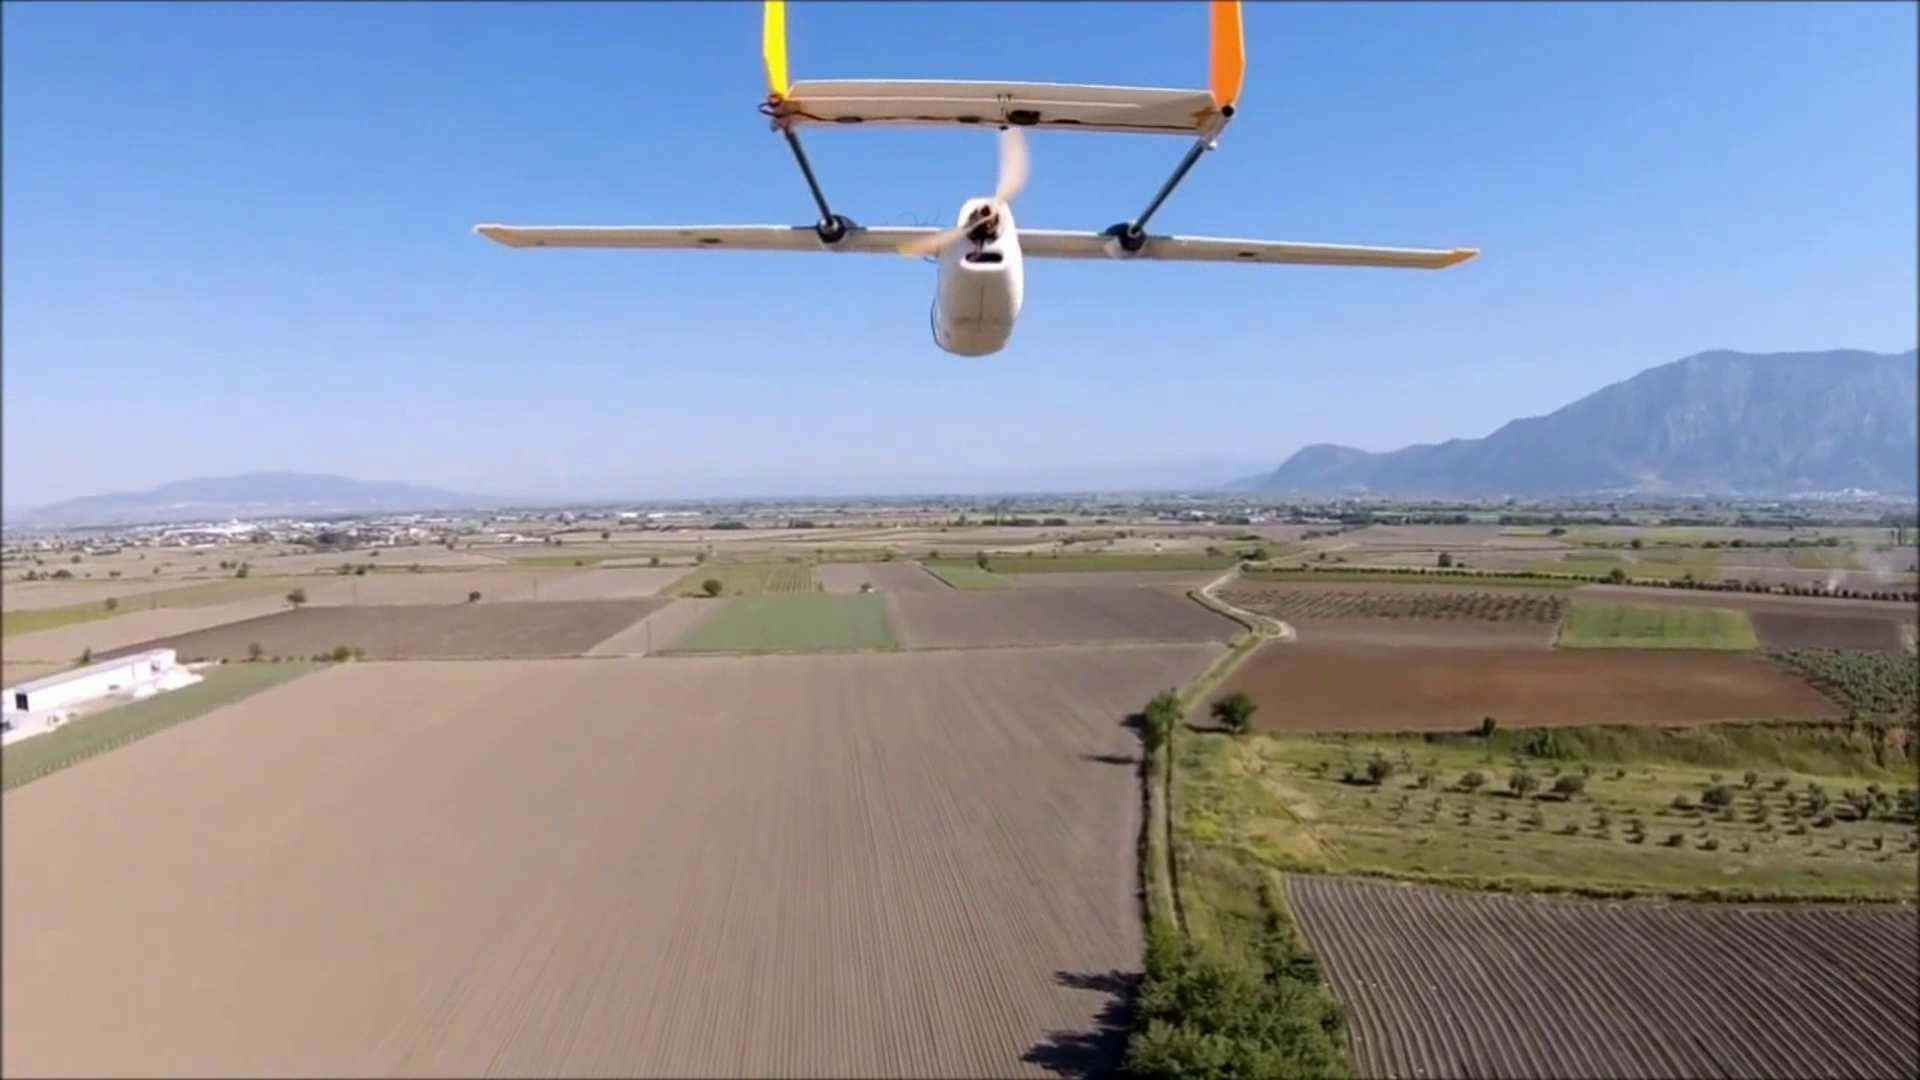airplane: (473, 5, 1477, 358)
